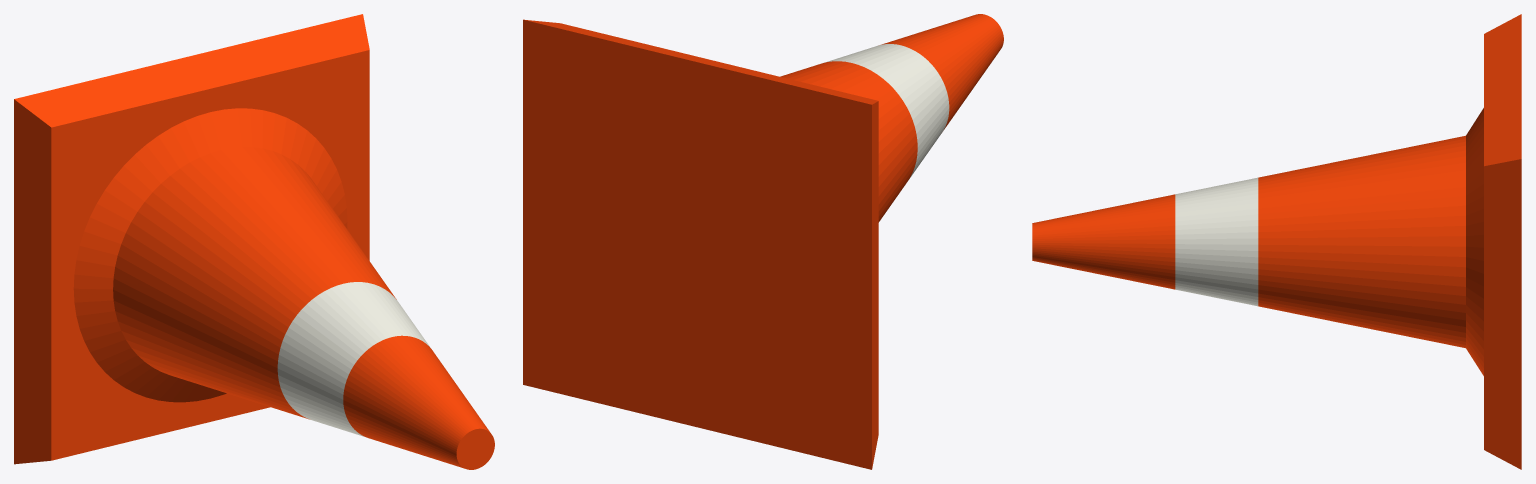
File: fsae_small_orange_single_white.obj
The picture shows the model from 3 angles, left to right: view 1: azimuth 30°, elevation 25°; view 2: azimuth 150°, elevation 25°; view 3: azimuth 270°, elevation 25°; orthographic projection. The views are drawn at different scales.
Bounding box in the file's own units: 22.8 × 22.8 × 32.5.
2 materials, 2 textured.
